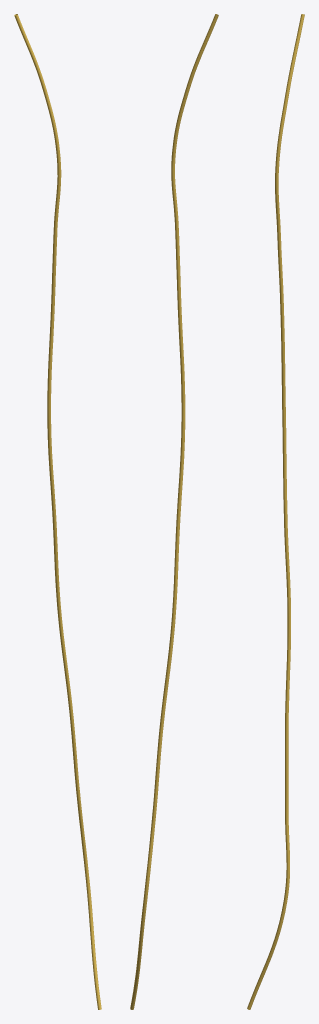
Rendered from Common_fibular_nerve_right.glb.
3 renders of one model, left to right at view 1: azimuth 30°, elevation 25°; view 2: azimuth 210°, elevation 25°; view 3: azimuth 270°, elevation 25°, orthographic. The views are drawn at different scales.
Visible parts, largest first — view 1: Common_fibular_nerve.r.001_BezierCurve.543; view 2: Common_fibular_nerve.r.001_BezierCurve.543; view 3: Common_fibular_nerve.r.001_BezierCurve.543.
Boxes of the visible parts, x1=… form: Common_fibular_nerve.r.001_BezierCurve.543: x1=14, y1=14, x2=101, y2=1009; Common_fibular_nerve.r.001_BezierCurve.543: x1=130, y1=14, x2=218, y2=1009; Common_fibular_nerve.r.001_BezierCurve.543: x1=247, y1=14, x2=304, y2=1009.
Bounding box in the file's own units: 0.0203 × 0.2907 × 0.0157.
